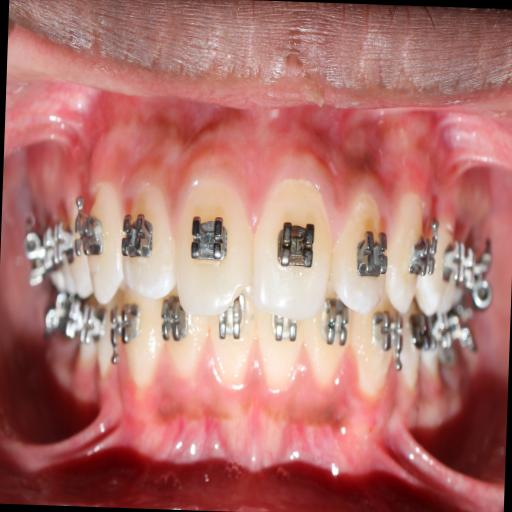correct_brace: (270, 208, 316, 278), (184, 206, 232, 268), (121, 208, 156, 264), (354, 220, 386, 276), (410, 228, 438, 284), (73, 214, 101, 254)
incorrect_brace: (330, 180, 388, 324), (120, 172, 174, 300)
